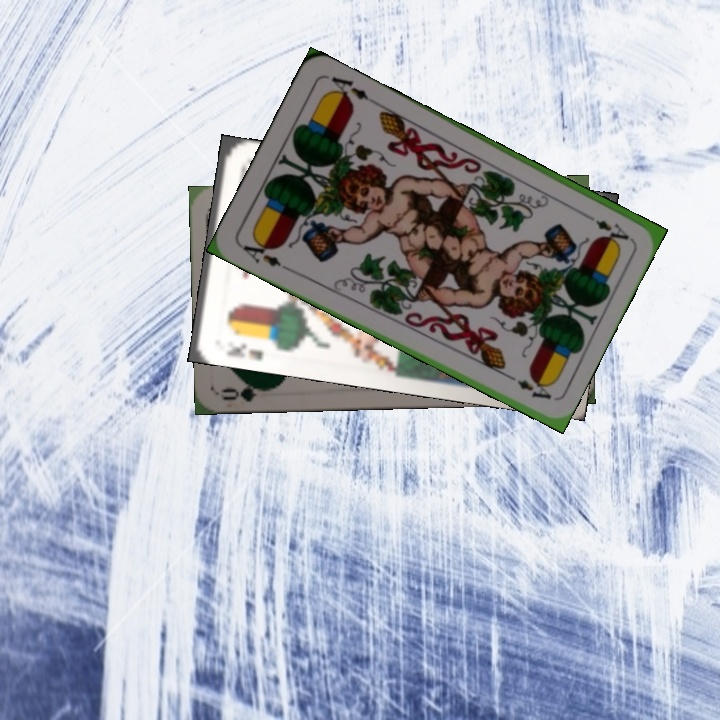EA: (236, 234, 292, 273), (578, 208, 632, 243)
EK: (222, 338, 266, 362)
GO: (219, 378, 278, 405)
